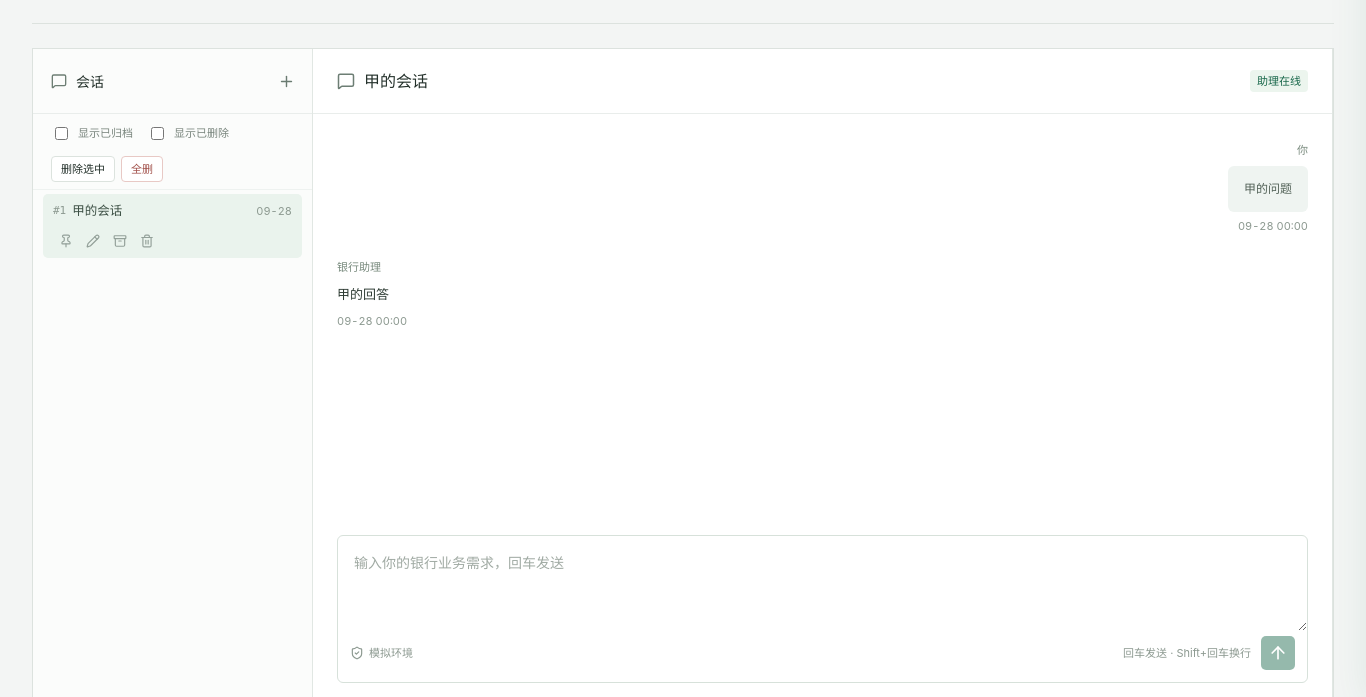
Test: the bill shell › still offers the send prompt when a settled turn only prepared the report
In the text box with placeholder "输入你的银行业务需求，回车发送": (822, 584) [338,536,1307,631], type "分析八月流水"
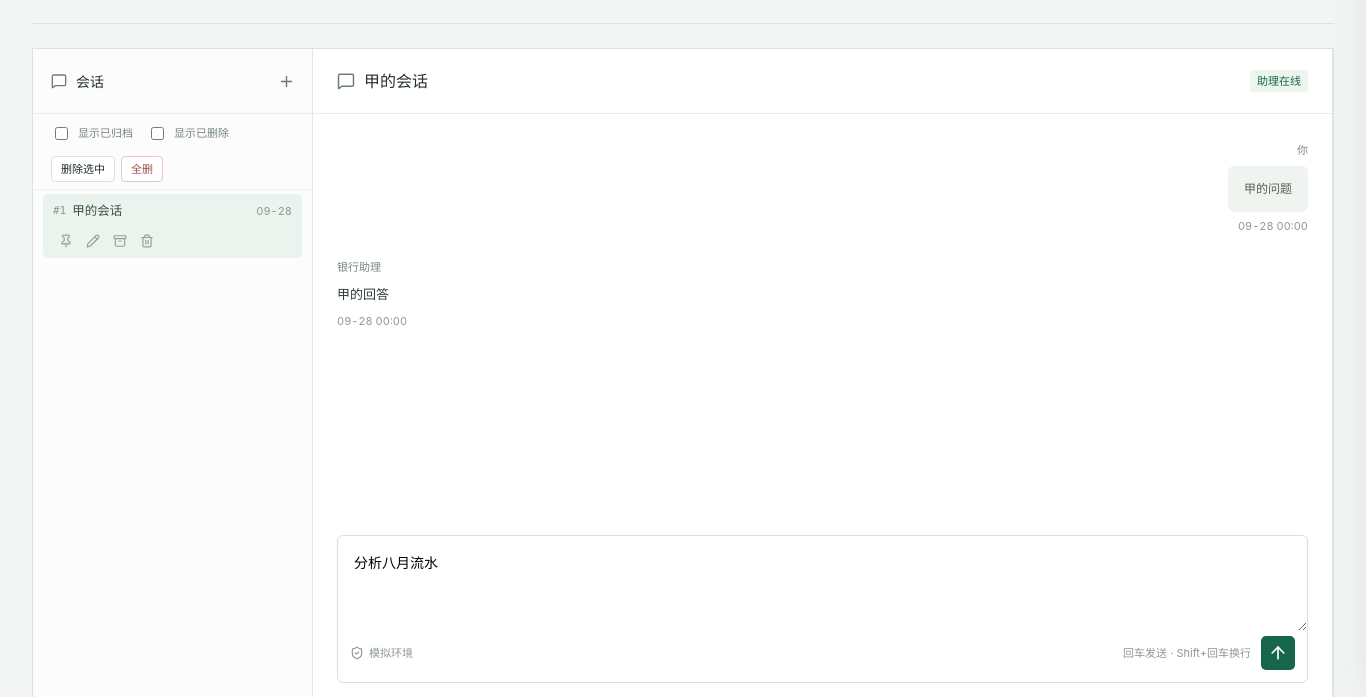
Submit the form with class "composer", box [337,535,1308,683]
(page scrolled)
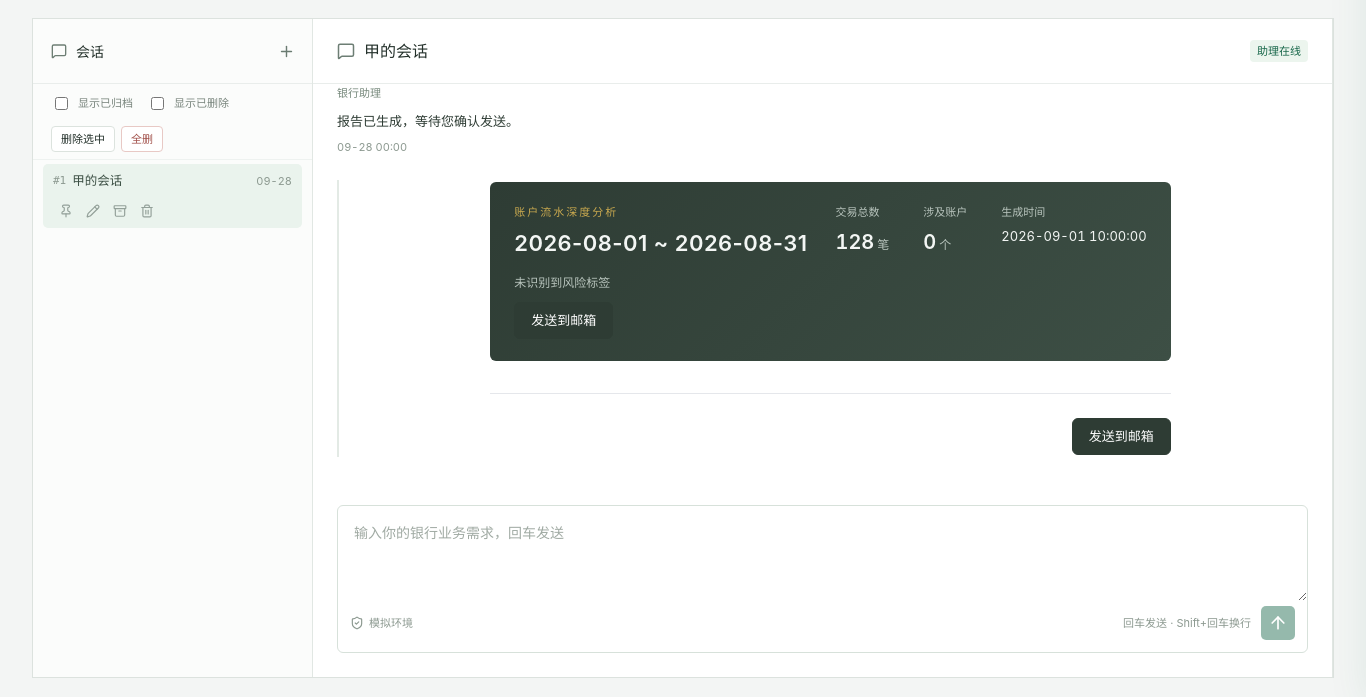
Now the element with class "report" shows "账户流水深度分析", box [514,205,618,219]
Now the element with class "report" shows "2026-08-01 ~ 2026-08-31", box [514,230,807,256]
Now the number of "AnalysisResult" components is 1, box [490,182,1171,455]
